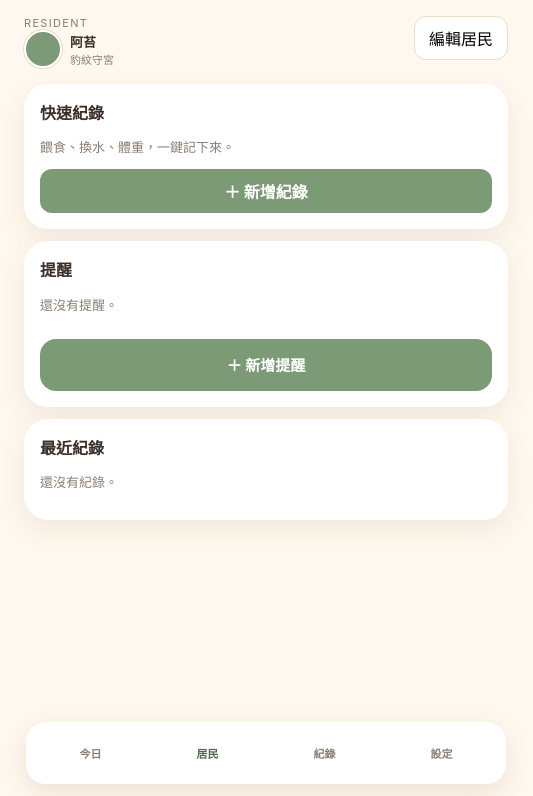
Scenario: AnimalDetailPage › edits a resident and sends the observed baseRevision
Click the button "編輯居民" at (461, 38), box [414, 16, 508, 60]
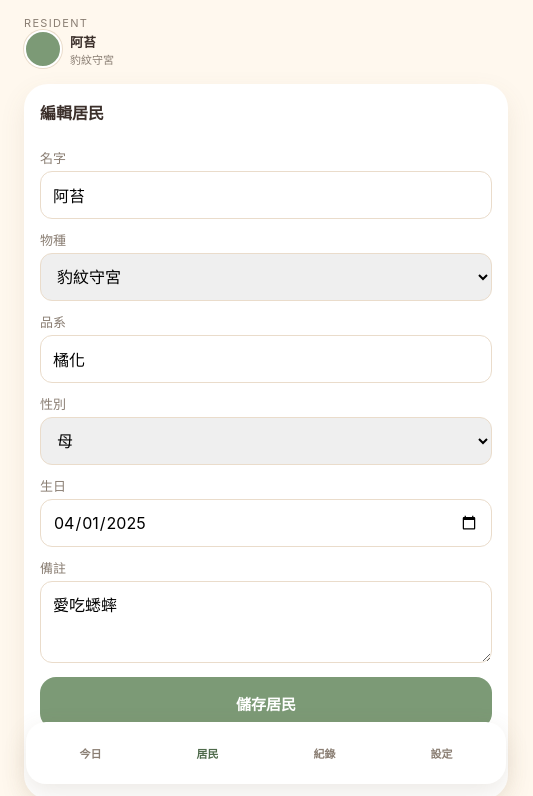
Replace the text in the field labelled "名字" with "阿苔二號" at (266, 195), box [40, 171, 492, 219]
Replace the text in the field labelled "品系" with "白化" at (266, 359), box [40, 335, 492, 383]
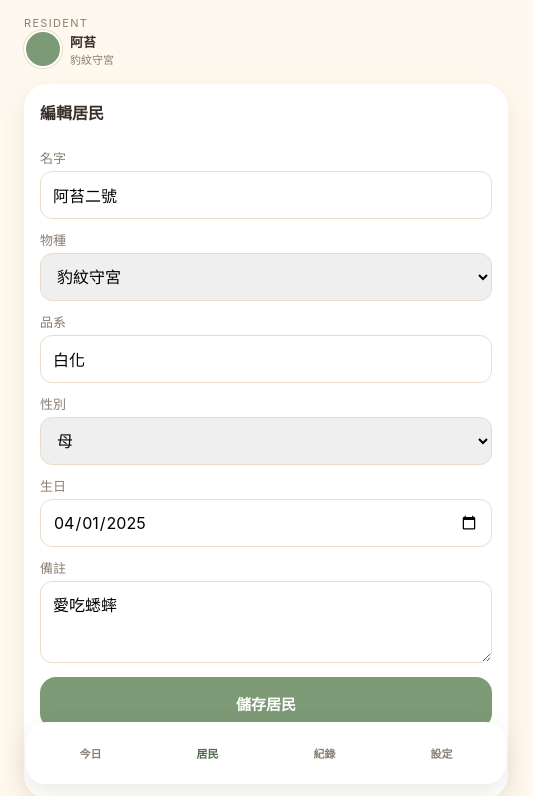
Select "公" in the dropdown labelled "性別" at (266, 441), box [40, 417, 492, 465]
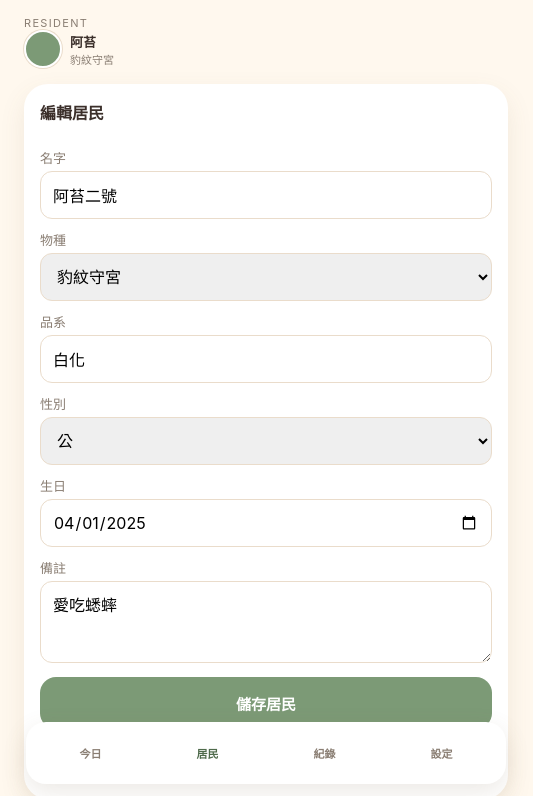
Type "2024-01-02" into the date field labelled "生日" at (266, 523), box [40, 499, 492, 547]
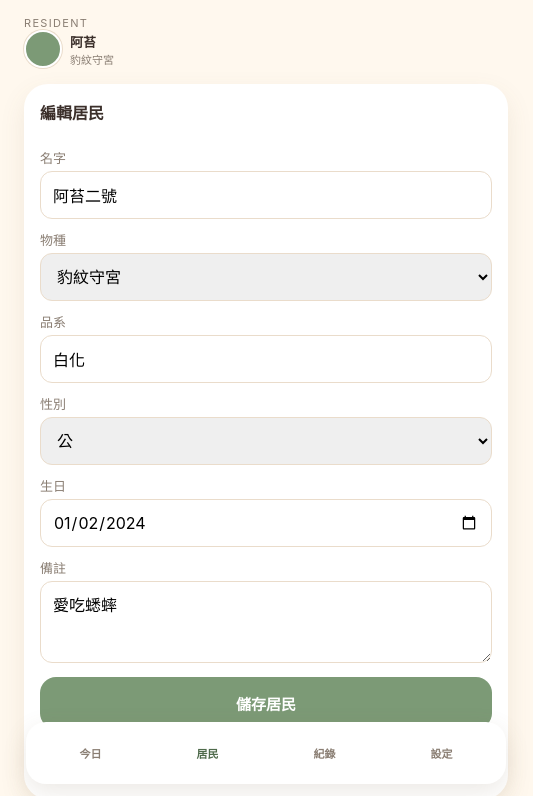
Replace the text in the text box labelled "備註" with "換季中" at (266, 622), box [40, 581, 492, 663]
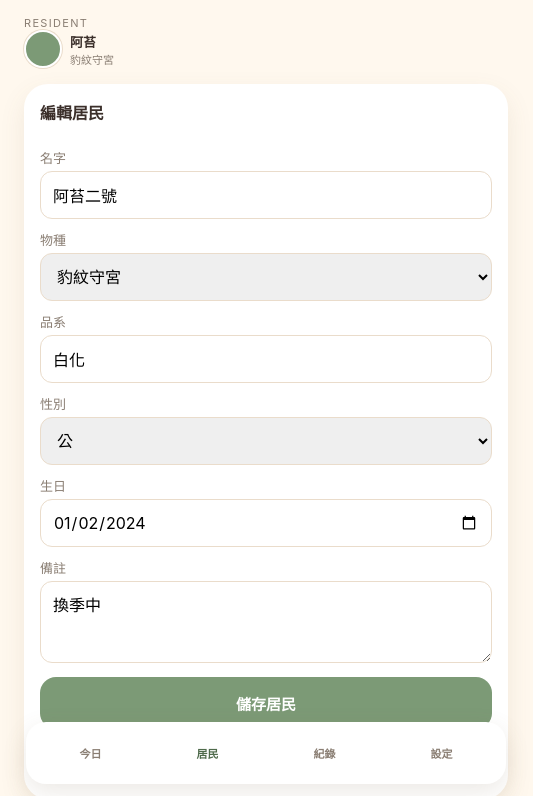
Click the button "儲存居民" at (266, 703), box [40, 677, 492, 729]
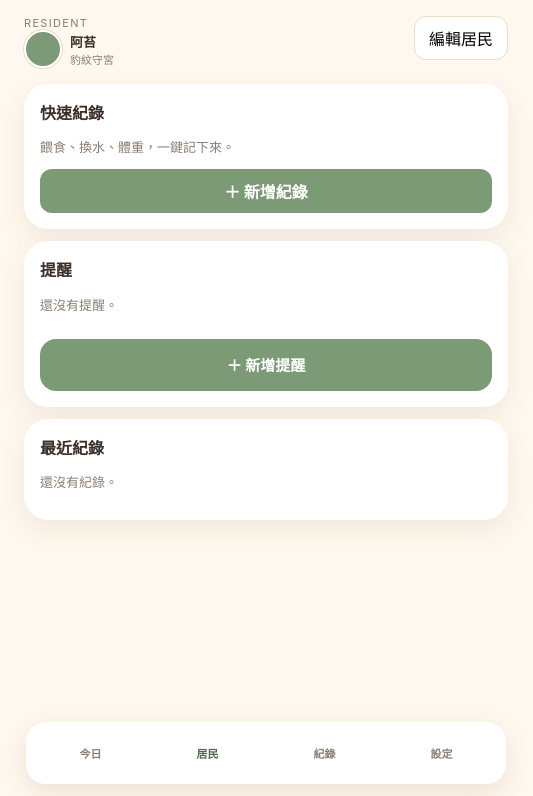
Expected: the button "儲存居民" is gone
